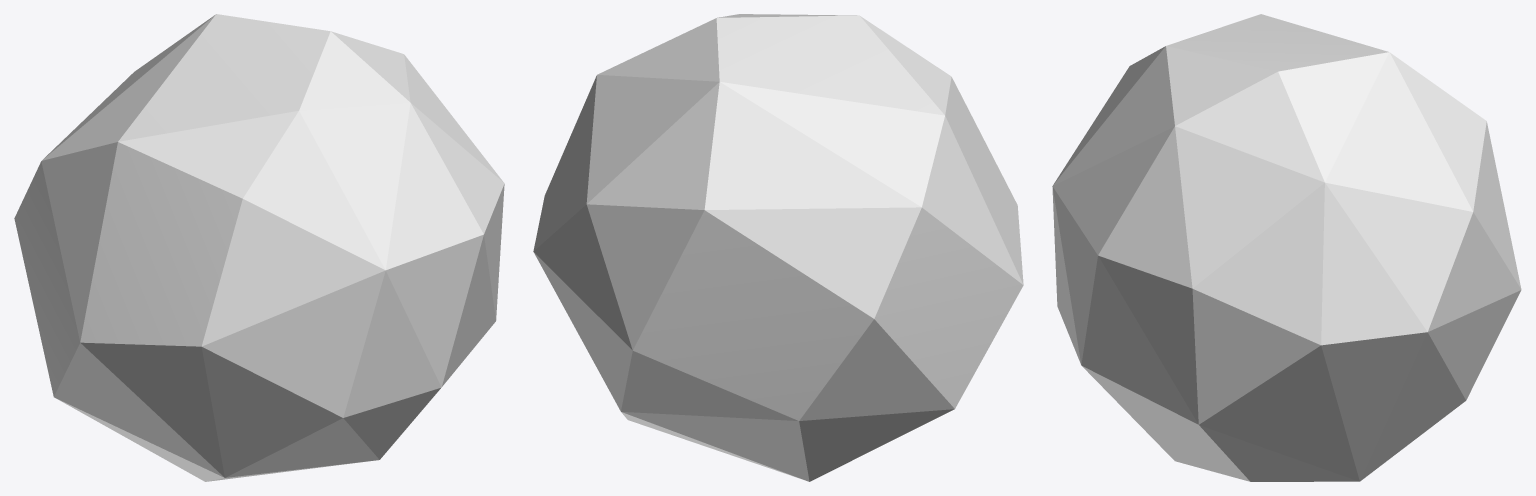
File: cloud_16.fbx
3 renders of one model, left to right at view 1: azimuth 30°, elevation 25°; view 2: azimuth 150°, elevation 25°; view 3: azimuth 270°, elevation 25°, orthographic.
Visible parts, largest first — view 1: cloud_16; view 2: cloud_16; view 3: cloud_16.
Boxes of the visible parts, <box> form: cloud_16: <box>14,14,504,481</box>; cloud_16: <box>533,14,1023,481</box>; cloud_16: <box>1052,14,1521,481</box>.
Size of the model in its own units: 335 by 308 by 315.
